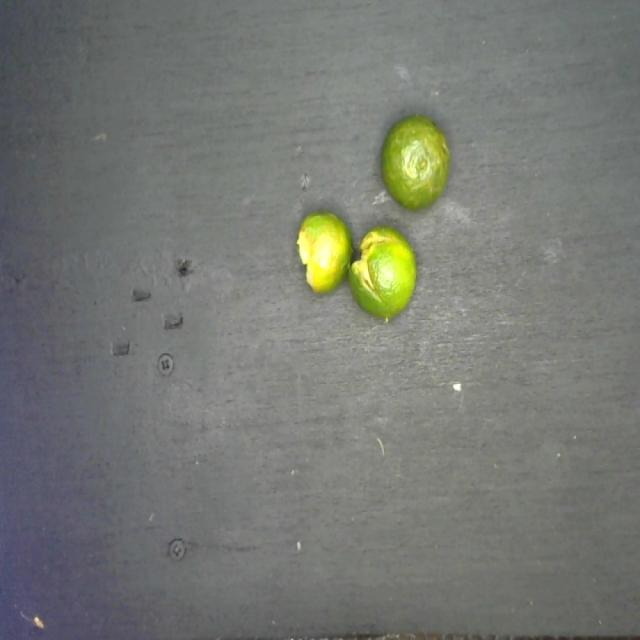biodegradable: (290, 107, 460, 329)
